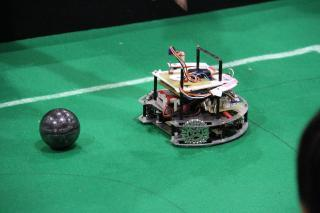Robot: (137, 41, 251, 148)
